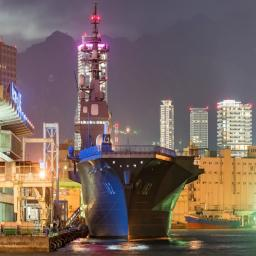Portanaves: (70, 3, 207, 242)
